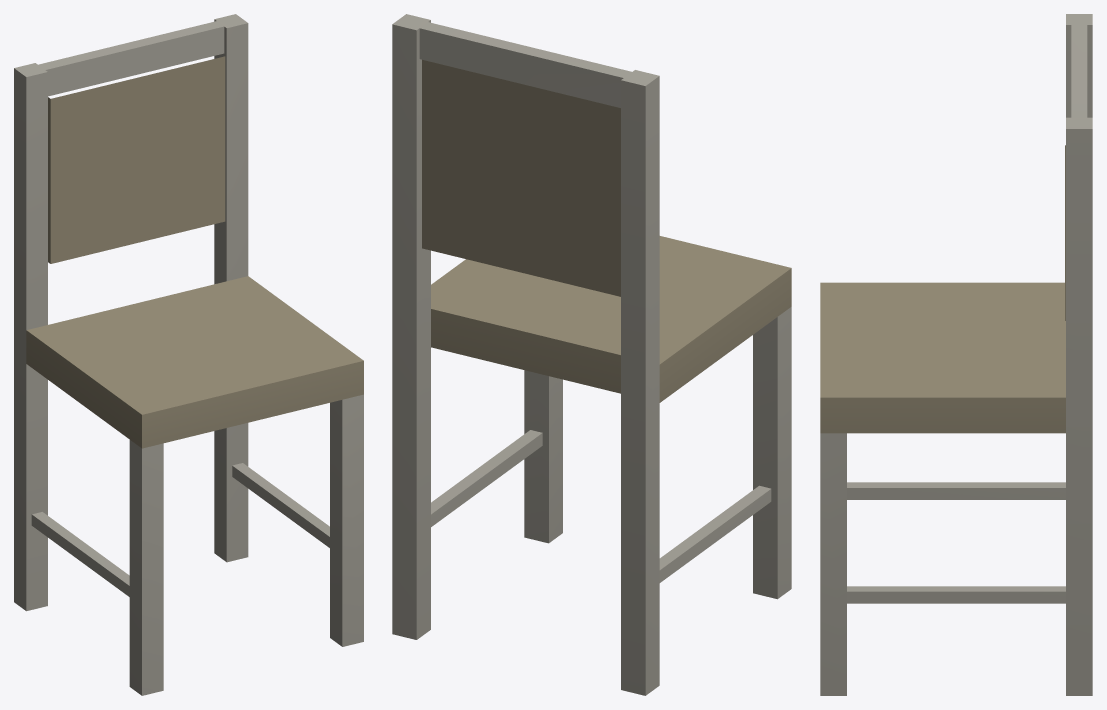
The model's file is seat.chair_cushion.cream.glb.
The picture shows the model from 3 angles, left to right: view 1: azimuth 30°, elevation 25°; view 2: azimuth 150°, elevation 25°; view 3: azimuth 270°, elevation 25°; orthographic projection. The views are drawn at different scales.
Parts seen in each view (by area): view 1: seat_chair_cushion_cream; view 2: seat_chair_cushion_cream; view 3: seat_chair_cushion_cream.
Boxes of the visible parts, x1,y1,x2,y2 form: seat_chair_cushion_cream: (14, 14, 363, 695); seat_chair_cushion_cream: (392, 14, 791, 695); seat_chair_cushion_cream: (820, 14, 1092, 695).
Size of what is drawn, in the model's own units: 0.413 by 0.95 by 0.413.
